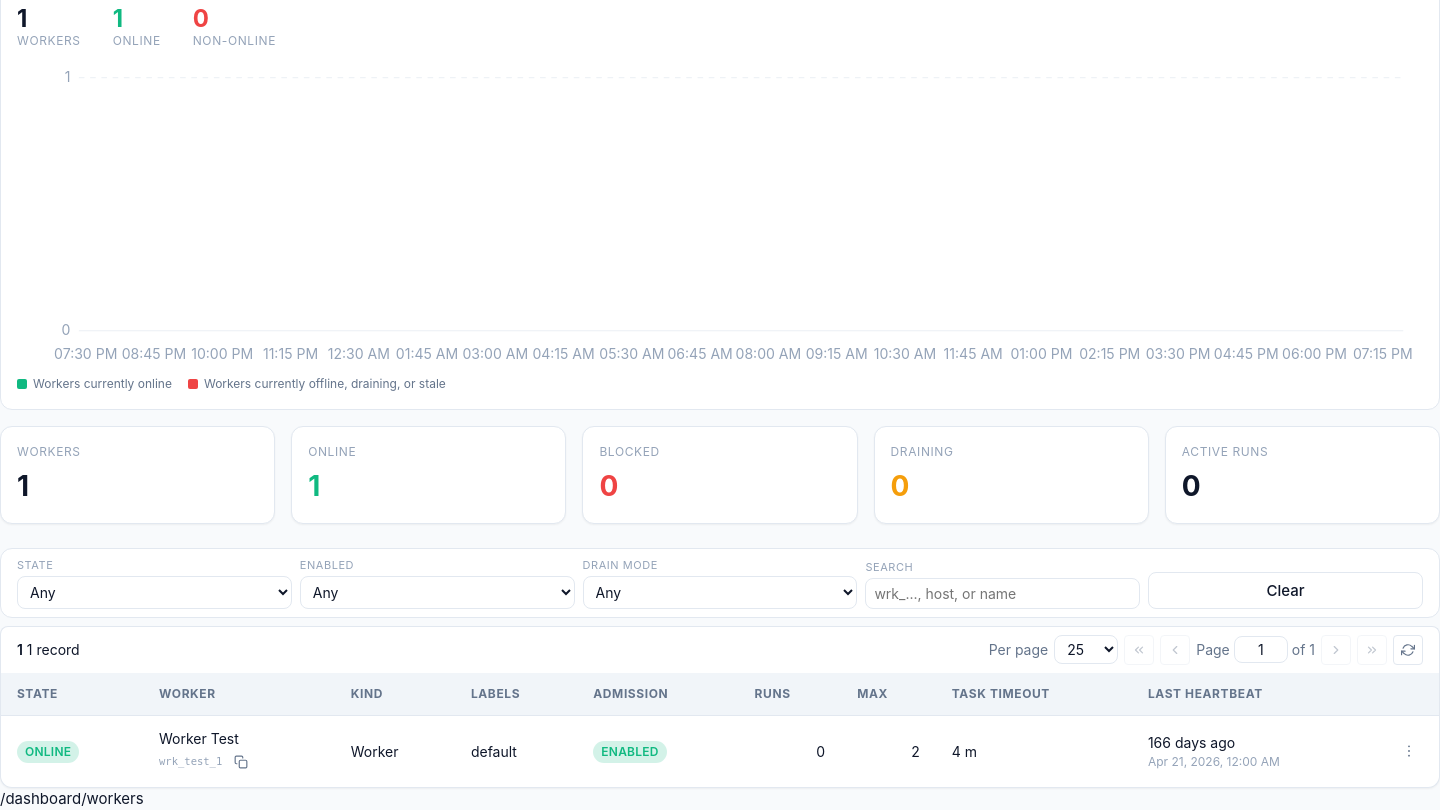
it: WorkersView deep-links to the log viewer for a selected worker
This screenshot has width=1440, height=810.
(page scrolled)
Click the text "Worker Test".
click(199, 738)  # box [159, 730, 239, 747]
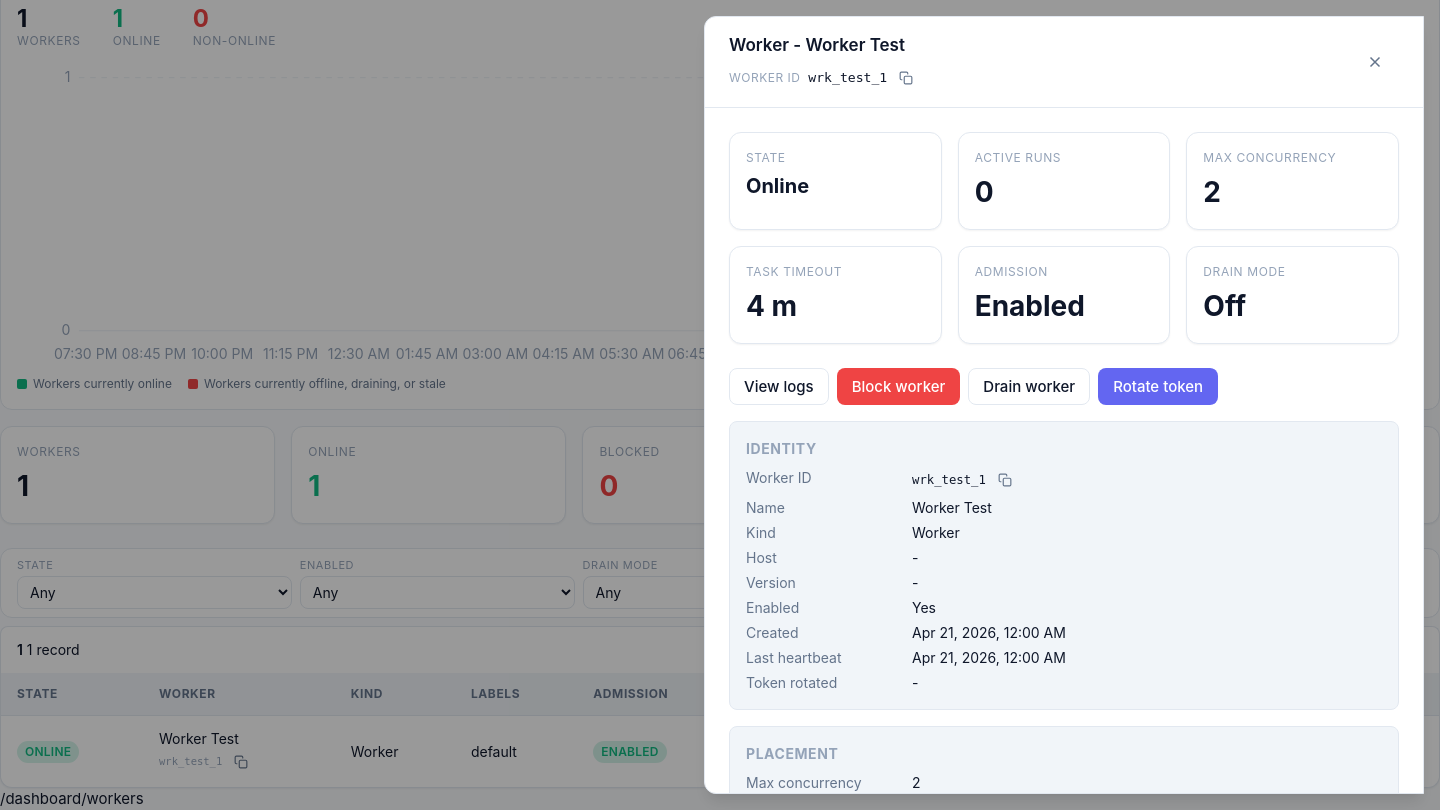
Click the button titled "Open the dedicated log viewer for this worker".
click(779, 386)  # box [729, 368, 829, 405]
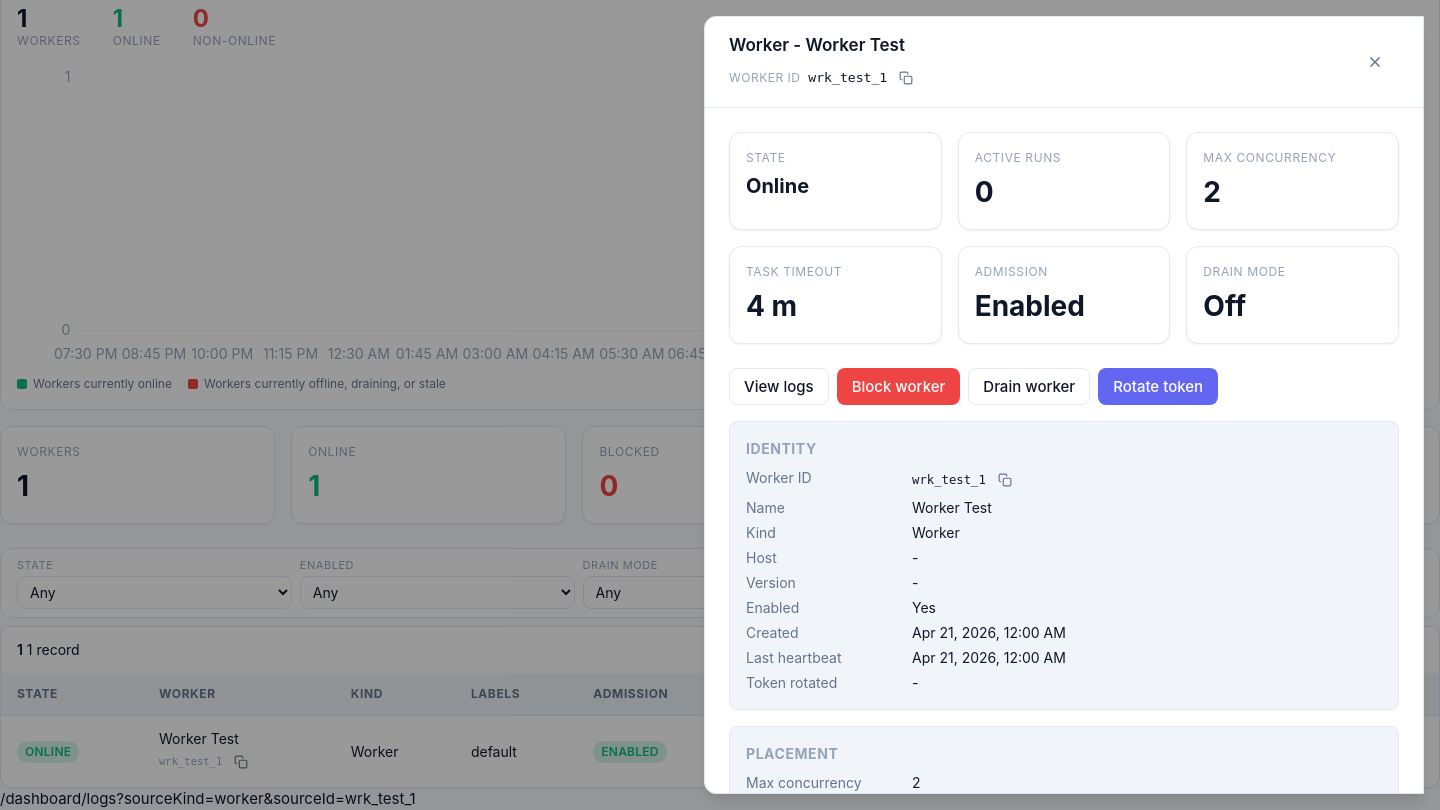
expect the text with test id "location-probe" reads "/dashboard/logs?sourceKind=worker&sourceId=wrk_test_1": met, box [0, 789, 416, 808]
